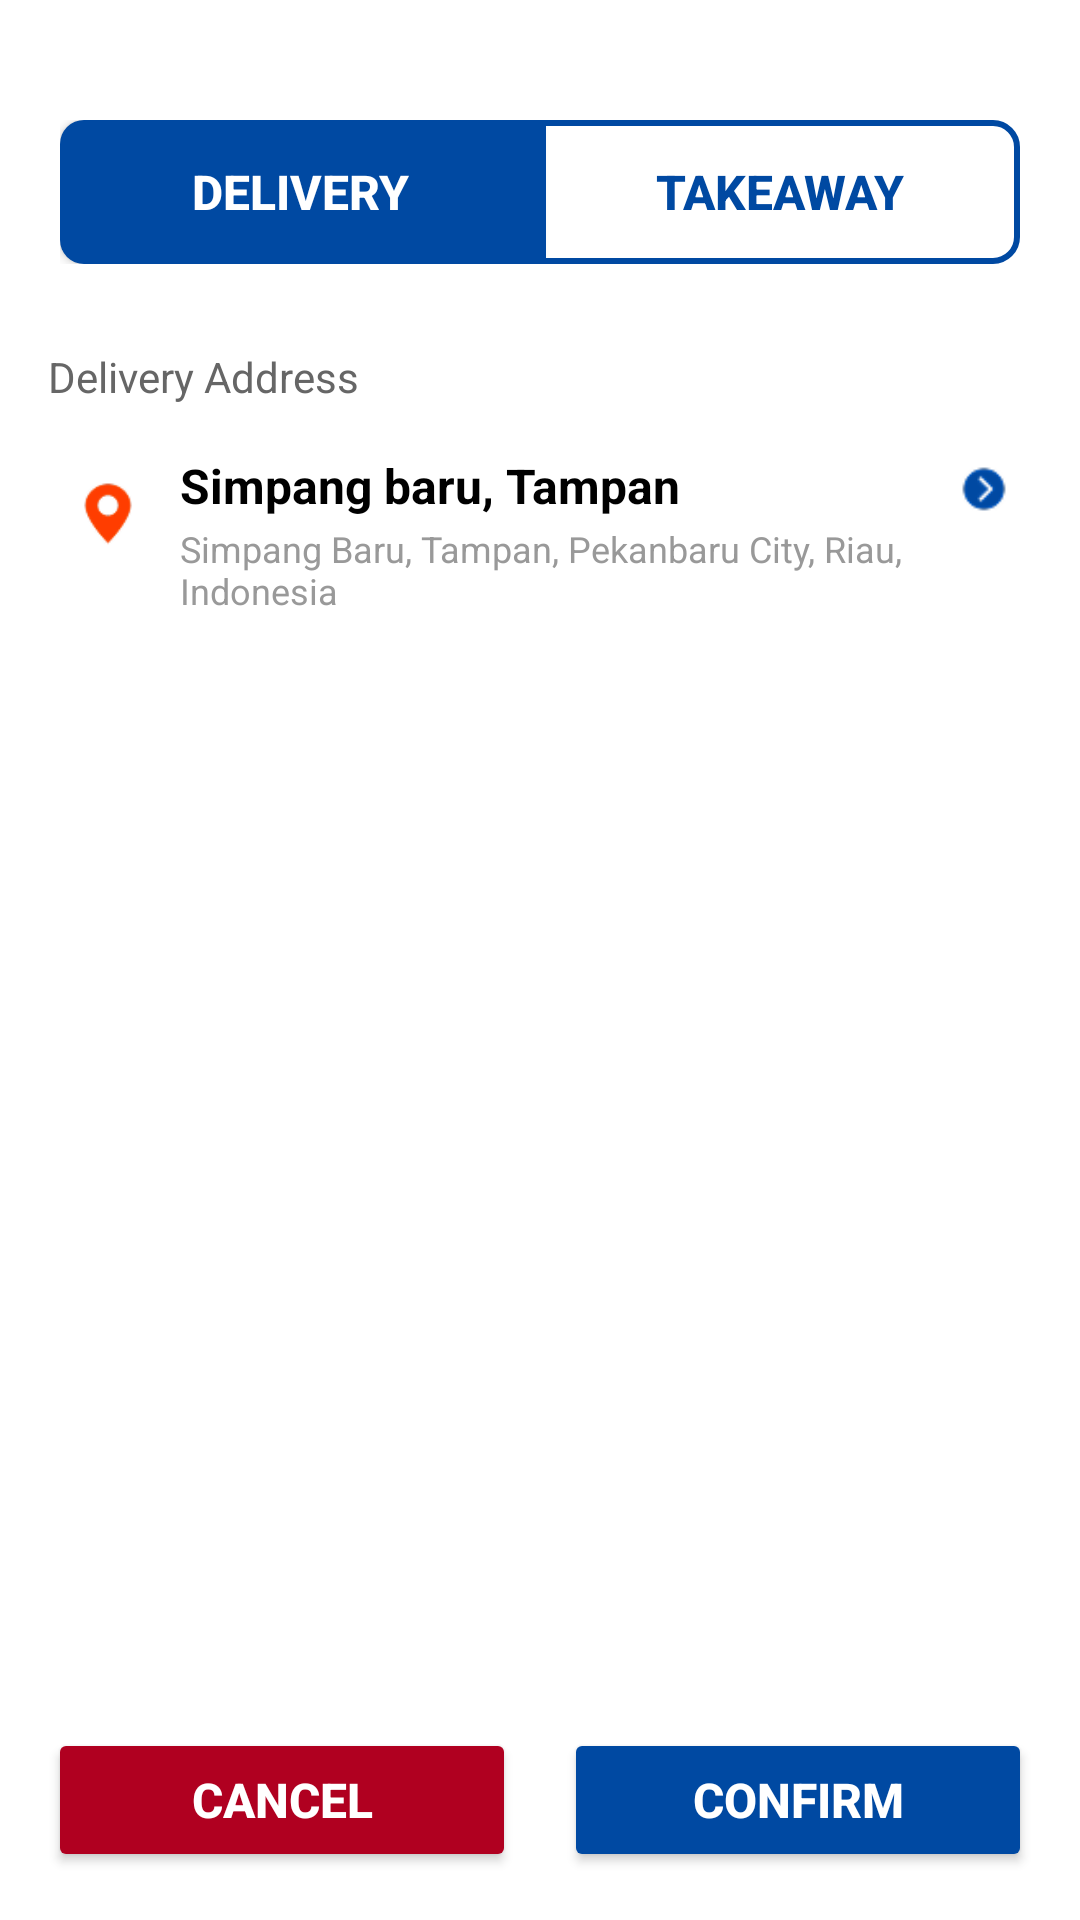

Where icons sit on this 1080w x 1920h app screen, as box(x1, y1, x2, y2):
location: box(84, 483, 132, 544)
nextpage: box(962, 467, 1006, 511)
